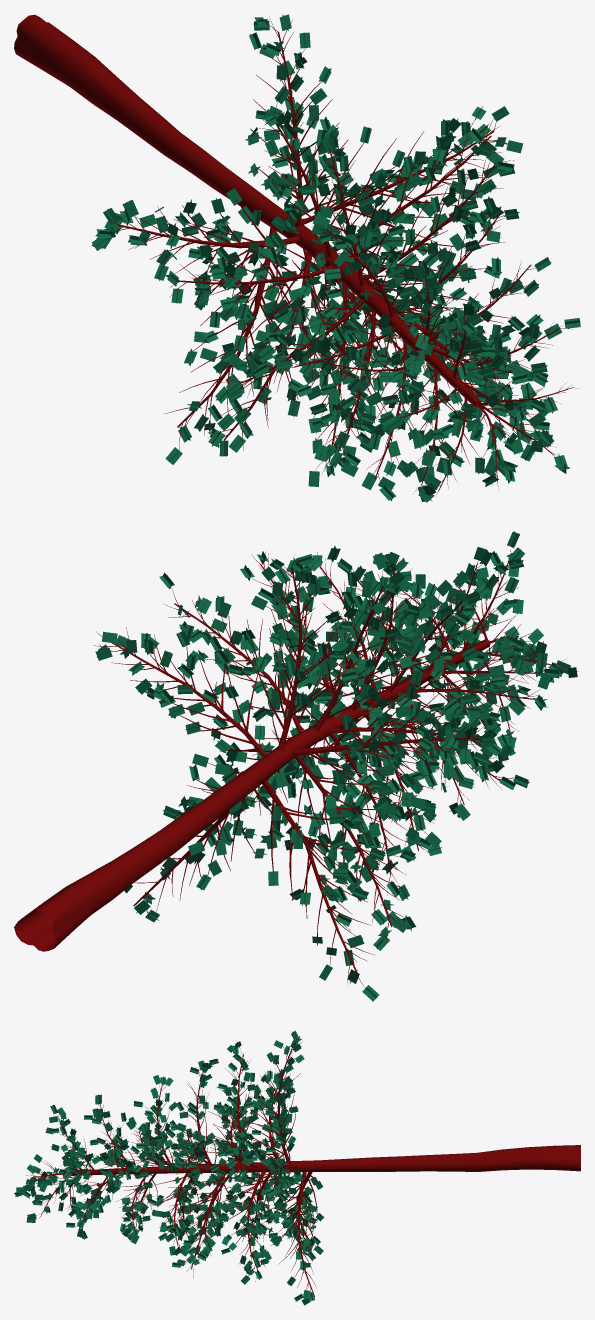
The model's file is tree.obj.
The picture shows the model from 3 angles, top to bottom: view 1: azimuth 30°, elevation 25°; view 2: azimuth 150°, elevation 25°; view 3: azimuth 270°, elevation 25°; orthographic projection. The views are drawn at different scales.
Visible parts, largest first — view 1: Foliage001; view 2: Foliage001; view 3: Foliage001.
Part boxes in pixels (left/top/right/bottom): Foliage001: left=14, top=14, right=580, bottom=502; Foliage001: left=14, top=531, right=578, bottom=1001; Foliage001: left=14, top=1030, right=580, bottom=1305.
Bounding box in the file's own units: 5.05 × 4.95 × 10.31.
